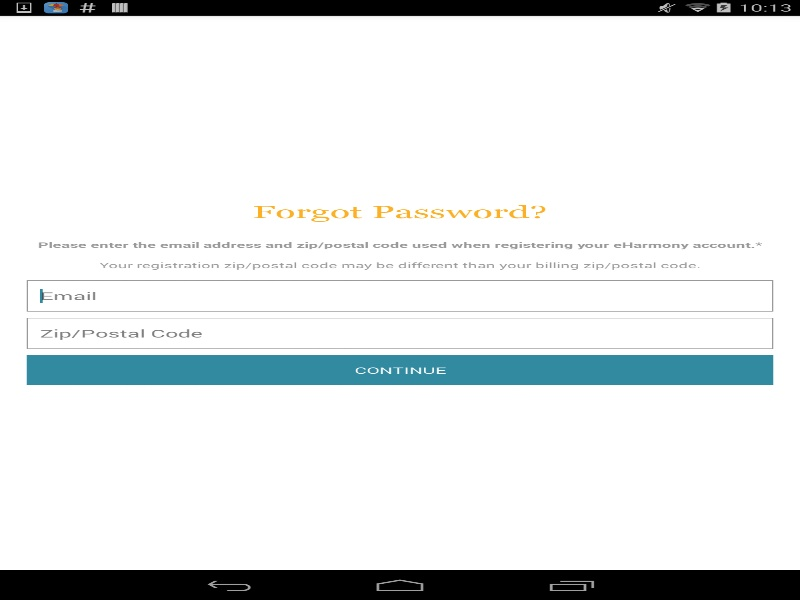Button: (26, 355, 773, 385)
Input: (26, 317, 773, 349), (26, 280, 773, 311)
